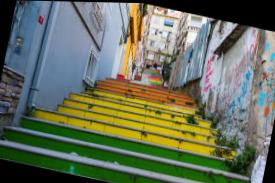Bench: (0, 51, 273, 183)
